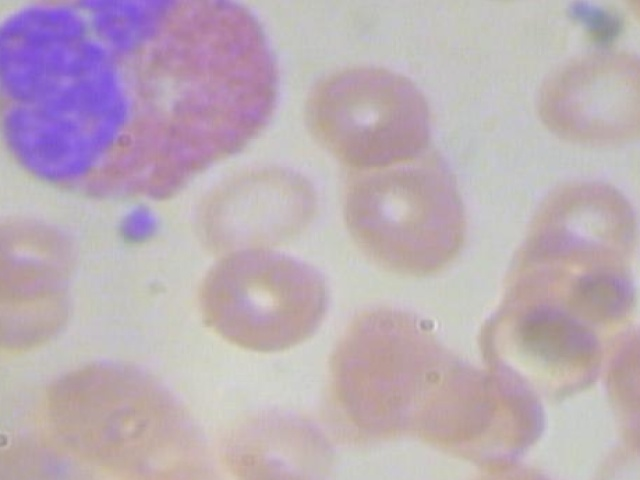Platelets: (100, 198, 166, 246)
RBC: (329, 135, 483, 281), (192, 239, 345, 359), (307, 58, 443, 170), (195, 149, 331, 256), (528, 34, 640, 159), (530, 169, 640, 263), (0, 251, 81, 357), (591, 320, 640, 461)
WBC: (0, 0, 309, 207)
